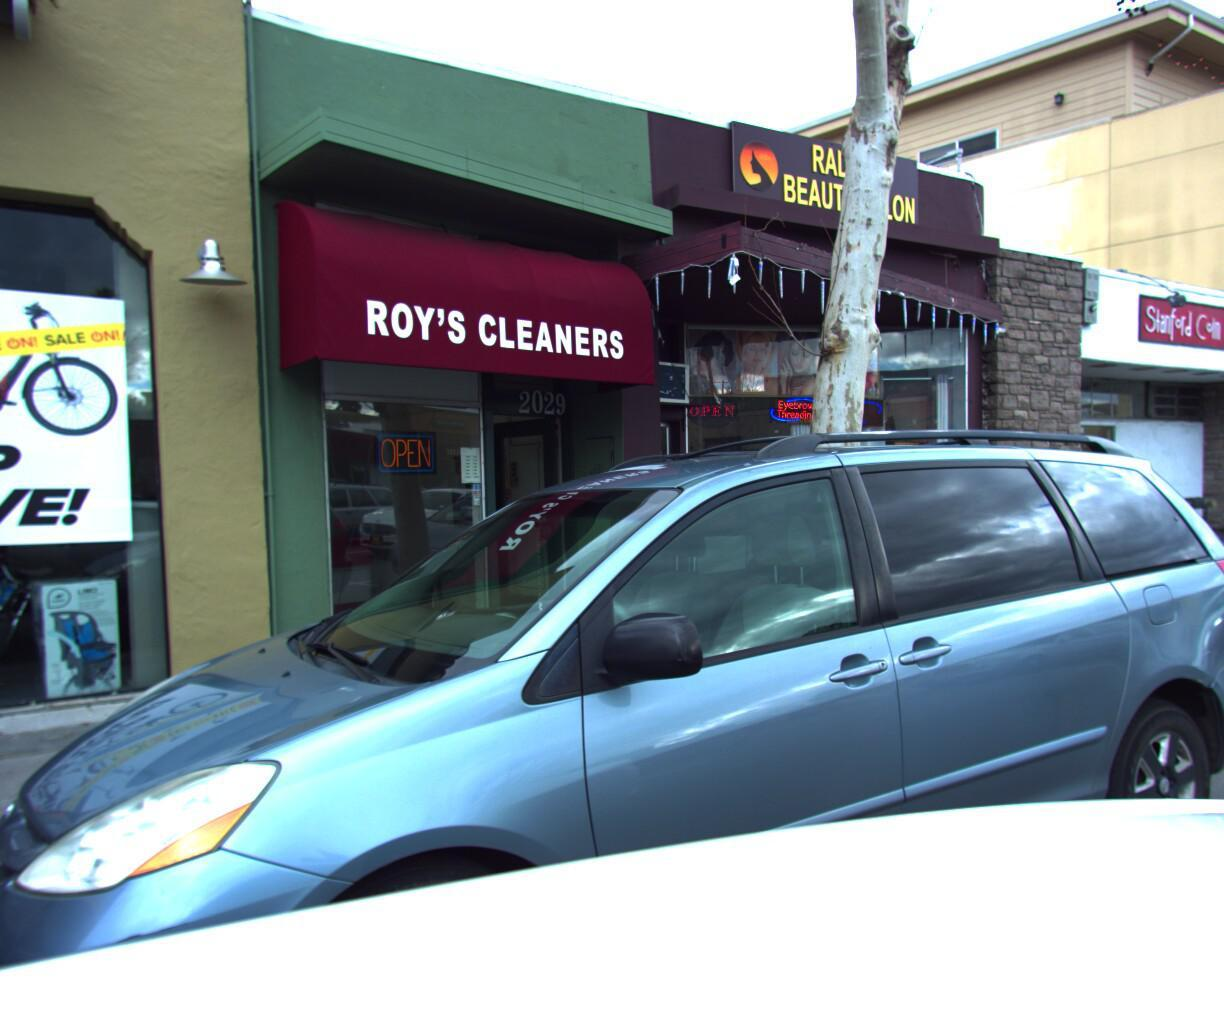car: (0, 307, 1224, 1024), (1096, 464, 1224, 746)
